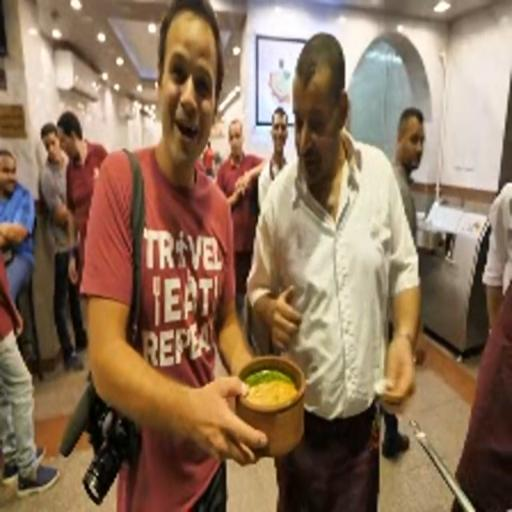nao-violencia: (72, 0, 430, 469)
